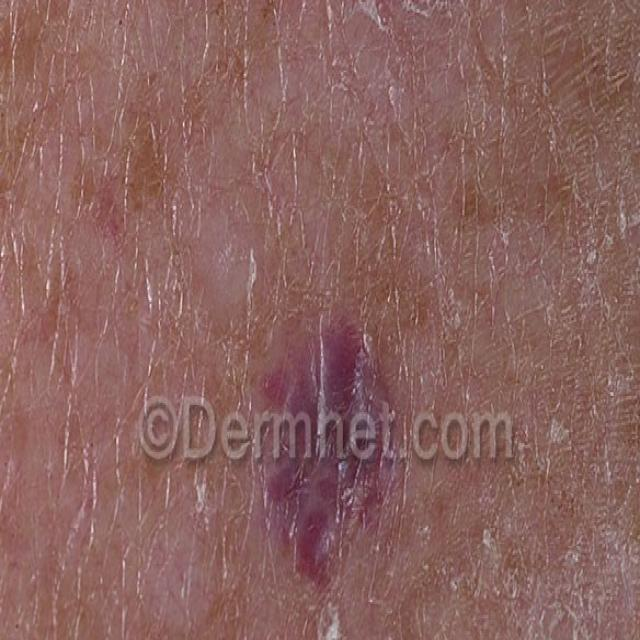Vascular Tumors: (242, 313, 414, 612)
